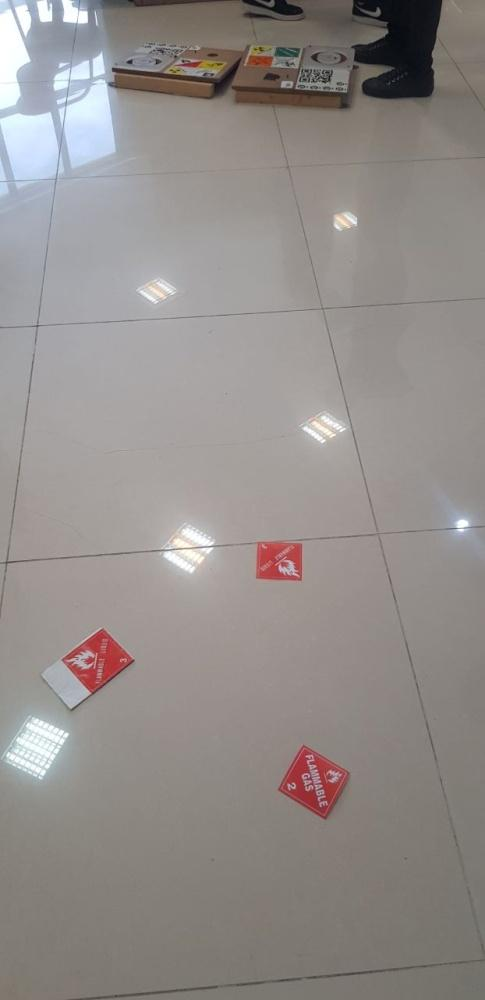explosive: (248, 58, 273, 68)
flammable: (283, 743, 351, 820), (61, 628, 135, 695), (258, 540, 302, 580)
infectious-substance: (275, 57, 299, 71)
non-flammable-gas: (278, 48, 300, 57)
oxidizer: (201, 61, 225, 71)
poison: (194, 72, 216, 79)
radioactive: (248, 43, 278, 56), (165, 66, 190, 78)
spontaneously-combustible: (180, 59, 200, 68)
